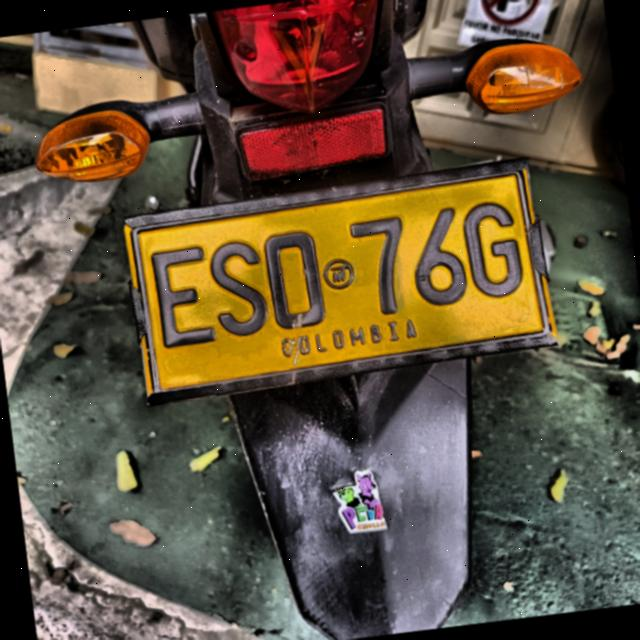6: (404, 202, 471, 312)
7: (348, 214, 414, 318)
E: (148, 242, 218, 350)
G: (458, 197, 526, 303)
O: (260, 229, 326, 333)
S: (207, 236, 271, 340)
